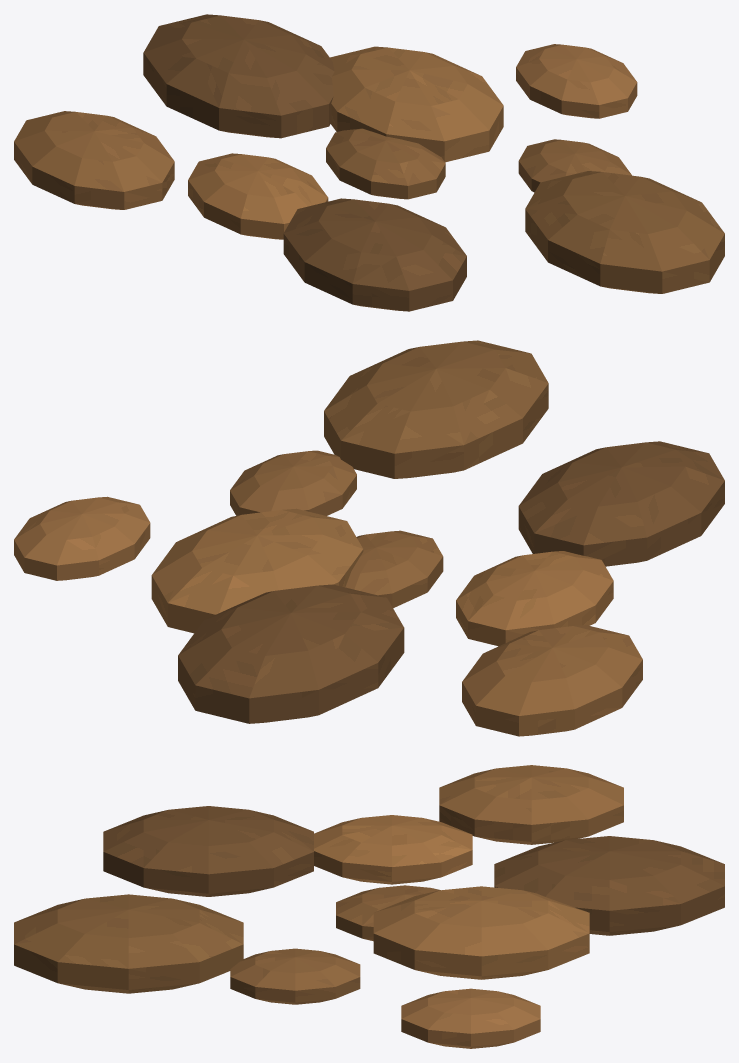
The model's file is seed_strawberries.glb.
3 views of the same model, one above another, from view 1: azimuth 30°, elevation 25°; view 2: azimuth 150°, elevation 25°; view 3: azimuth 270°, elevation 25° (orthographic). The views are drawn at different scales.
Visible parts, largest first — view 1: block_grain 8, block_grain 4, block_grain 5, block_grain 1, block_grain 7, block_grain 2, block_grain 6, block_grain 0, block_grain 3; view 2: block_grain 4, block_grain 8, block_grain 5, block_grain 1, block_grain 7, block_grain 2, block_grain 6, block_grain 3, block_grain 0; view 3: block_grain 8, block_grain 1, block_grain 4, block_grain 5, block_grain 7, block_grain 2, block_grain 6, block_grain 3, block_grain 0.
Boxes of the visible parts, bbox=[...] form: block_grain 8: bbox=[525, 171, 724, 293]; block_grain 4: bbox=[143, 14, 334, 138]; block_grain 5: bbox=[283, 198, 466, 311]; block_grain 1: bbox=[330, 46, 503, 162]; block_grain 7: bbox=[14, 111, 174, 209]; block_grain 2: bbox=[188, 153, 328, 239]; block_grain 6: bbox=[516, 44, 637, 118]; block_grain 0: bbox=[326, 128, 445, 199]; block_grain 3: bbox=[518, 139, 631, 192]; block_grain 4: bbox=[178, 584, 404, 723]; block_grain 8: bbox=[324, 340, 548, 478]; block_grain 5: bbox=[518, 441, 724, 566]; block_grain 1: bbox=[151, 508, 363, 633]; block_grain 7: bbox=[462, 625, 642, 736]; block_grain 2: bbox=[456, 551, 613, 646]; block_grain 6: bbox=[14, 496, 150, 580]; block_grain 3: bbox=[230, 450, 356, 515]; block_grain 0: bbox=[345, 530, 443, 608]; block_grain 8: bbox=[14, 894, 243, 993]; block_grain 1: bbox=[373, 886, 589, 979]; block_grain 4: bbox=[494, 836, 724, 935]; block_grain 5: bbox=[103, 806, 313, 896]; block_grain 7: bbox=[439, 765, 623, 844]; block_grain 2: bbox=[314, 815, 472, 884]; block_grain 6: bbox=[401, 988, 540, 1048]; block_grain 3: bbox=[230, 948, 360, 1004]; block_grain 0: bbox=[336, 885, 440, 941].
Bounding box in the file's own units: 0.0189 × 0.00236 × 0.022.
Materials: 1 (1 with a texture image).
